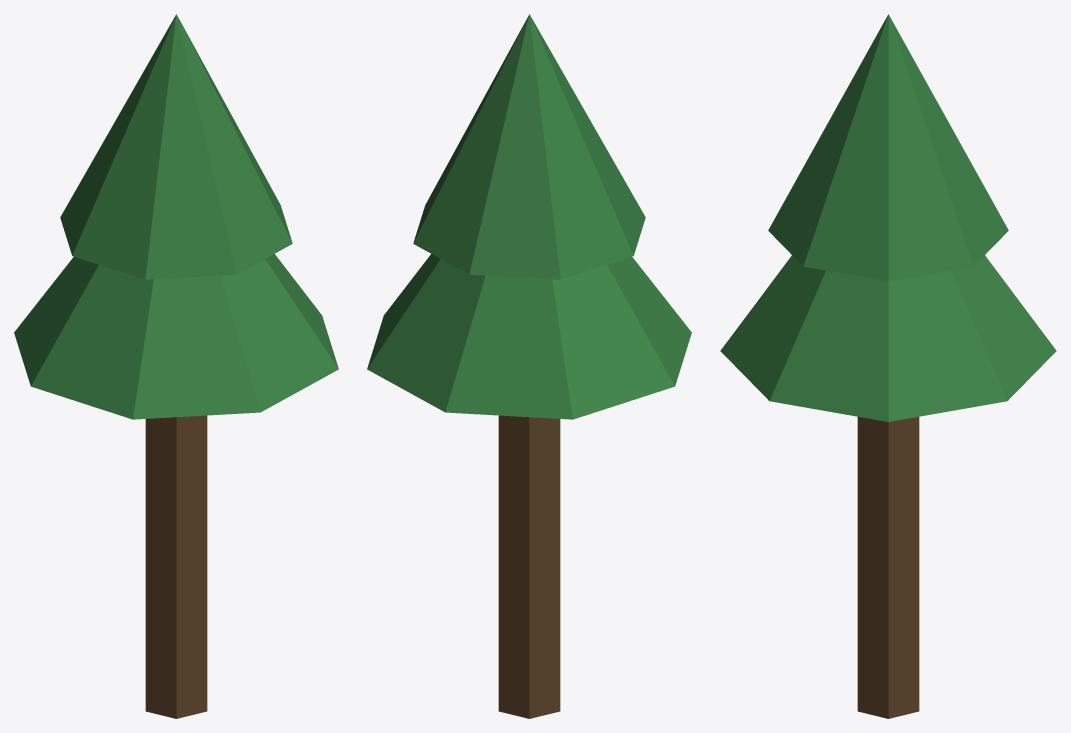
The model's file is tree.obj.
The picture shows the model from 3 angles, left to right: view 1: azimuth 30°, elevation 25°; view 2: azimuth 150°, elevation 25°; view 3: azimuth 270°, elevation 25°; orthographic projection.
Visible parts, largest first — view 1: Tree; view 2: Tree; view 3: Tree.
Part boxes in pixels (box(x1,y1,x2,y2)): Tree: box(14, 14, 338, 718); Tree: box(367, 14, 691, 718); Tree: box(720, 14, 1056, 718).
Bounding box in the file's own units: 1.9 × 4.3 × 1.9.
